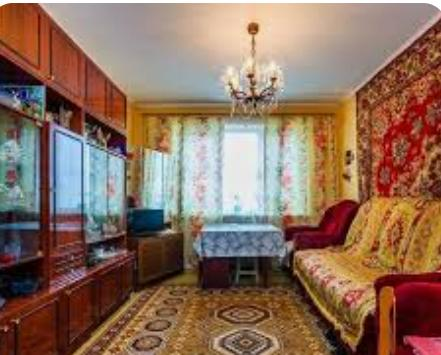carpet: (84, 270, 336, 355)
